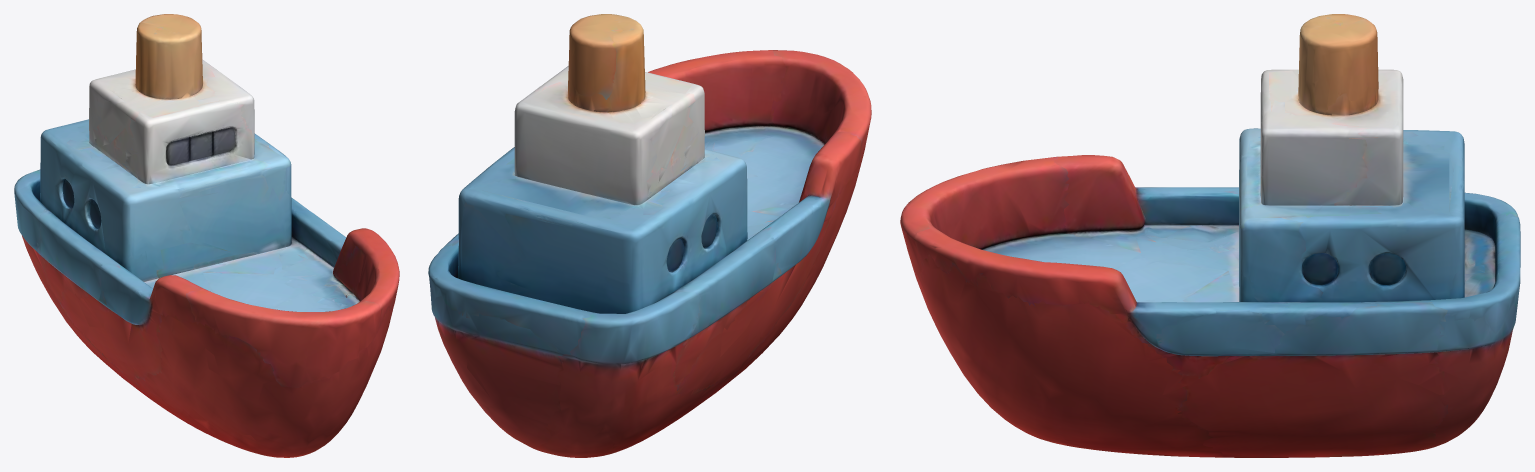
The model's file is ship_pbr.glb.
3 views of the same model, side by side, from view 1: azimuth 30°, elevation 25°; view 2: azimuth 150°, elevation 25°; view 3: azimuth 270°, elevation 25° (orthographic). The views are drawn at different scales.
Parts seen in each view (by area): view 1: model.012; view 2: model.012; view 3: model.012.
Part boxes in pixels (left/top/right/bottom): model.012: left=14, top=14, right=399, bottom=457; model.012: left=428, top=14, right=871, bottom=457; model.012: left=900, top=14, right=1520, bottom=457.
Size of the model in its own units: 0.991 by 1.47 by 2.08.
Materials: 1 (1 with a texture image).
